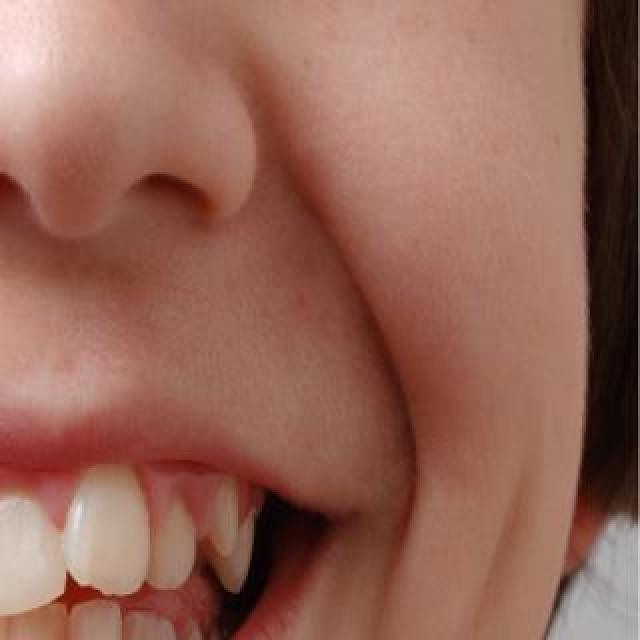maligned: (68, 453, 160, 587), (146, 497, 210, 601), (62, 590, 130, 640), (205, 479, 249, 555)
